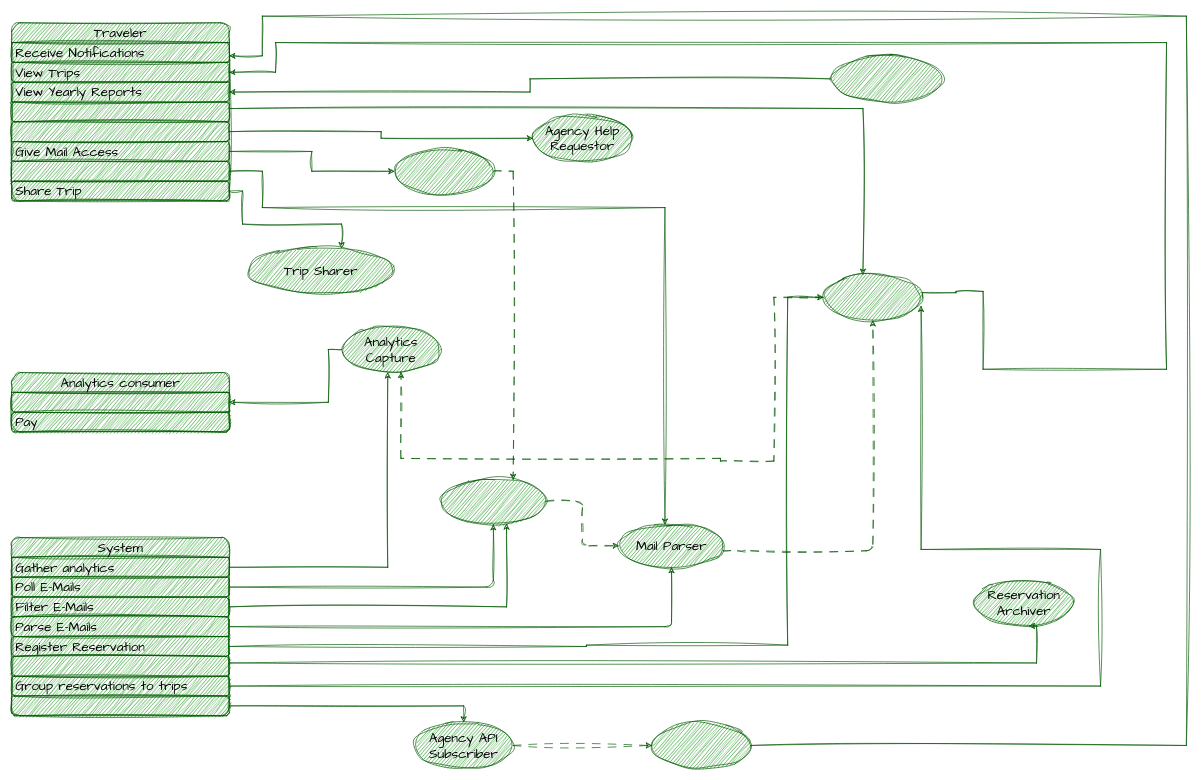
Some shapes in this 1203 by 780 pixel diagram are drawn without their labels. Each missing label, with the centre of its shape:
"Agency Updates" goes at (120,705).
"Ask for help/support" goes at (120,131).
"CRUD Reservations" goes at (120,111).
"forward Confirmation Mail" goes at (120,171).
"Mail Access Provider" goes at (443,171).
"Mail Reciever and filterer" goes at (493,501).
"Notification Sender" goes at (701,745).
"Query analytics data" goes at (120,402).
"Remove Trips" goes at (120,666).
"Reservation Orchestrator" goes at (872,297).
"Yearly Report Collector" goes at (886,78).
